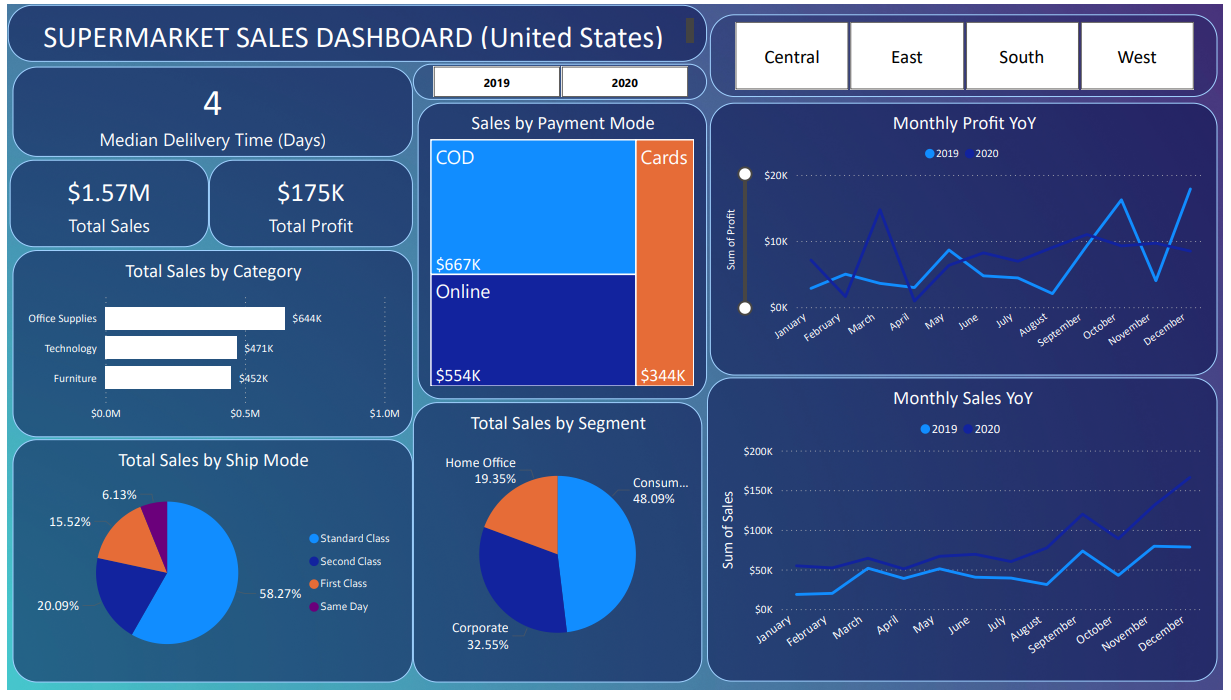

This screenshot's page, from the dashboard's own definition file:
{"tool":"powerbi","page":{"name":"Dashboard","canvas":[1280,720],"ordinal":0},"visuals":[{"type":"barChart","fields":{"Y":["Sum(Sheet1.Sales)"],"Category":["Sheet1.Category"]},"box":[5,258.3,421.7,196.7],"z":0},{"type":"pieChart","fields":{"Category":["Sheet1.Ship Mode"],"Y":["Sum(Sheet1.Sales)"]},"box":[5,456.7,421.7,256.7],"z":1000},{"type":"card","fields":{"Values":["Sum(Sheet1.Sales)"]},"box":[1.7,163.3,210,91.7],"z":2000},{"type":"card","fields":{"Values":["Sum(Sheet1.Profit)"]},"box":[211.7,163.3,215,91.7],"z":3000},{"type":"lineChart","title":"Monthly Sales YoY","fields":{"Category":["Sheet1.Order Date.Variation.Date Hierarchy.Month"],"Y":["Sum(Superstore_data.Sales)"],"Series":["Superstore_data.Order Date.Variation.Date Hierarchy.Year"]},"box":[736.7,391.7,538.3,320],"z":4000},{"type":"lineChart","title":"Monthly Profit YoY","fields":{"Category":["Sheet1.Order Date.Variation.Date Hierarchy.Month"],"Y":["Sum(Superstore_data.Profit)"],"Series":["Superstore_data.Order Date.Variation.Date Hierarchy.Year"]},"box":[740,103.3,535,286.7],"z":5000},{"type":"pieChart","fields":{"Y":["Sum(Sheet1.Sales)"],"Category":["Sheet1.Segment"]},"box":[426.7,418.3,305,295],"z":6000},{"type":"treemap","title":" Sales by Payment Mode","fields":{"Group":["Sheet1.Payment Mode"],"Values":["Sum(Sheet1.Sales)"]},"box":[431.7,103.3,305,311.7],"z":7000},{"type":"slicer","fields":{"Values":["Superstore_data.Region"]},"box":[740,10,535,86.7],"z":8000},{"type":"card","fields":{"Values":["Median(Sheet1.Avgdelivery)"]},"box":[5,65,421.7,95],"z":9000},{"type":"textbox","box":[0,0,736.7,60],"z":10000},{"type":"slicer","fields":{"Values":["Superstore_data.Order Date.Variation.Date Hierarchy.Year"]},"box":[426.7,61.7,310,38.3],"z":10001}]}

Visuals, with their boxes in screenshot pixels (x1, y1, x2, y2), scaled from the page's 1280x720 canvas onto the 1231x700 screenshot:
barChart - Sum(Sheet1.Sales) x Sheet1.Category: BBox(5, 251, 410, 442)
pieChart - Sheet1.Ship Mode x Sum(Sheet1.Sales): BBox(5, 444, 410, 694)
card - Sum(Sheet1.Sales): BBox(2, 159, 204, 248)
card - Sum(Sheet1.Profit): BBox(204, 159, 410, 248)
"Monthly Sales YoY" lineChart: BBox(708, 381, 1226, 692)
"Monthly Profit YoY" lineChart: BBox(712, 100, 1226, 379)
pieChart - Sum(Sheet1.Sales) x Sheet1.Segment: BBox(410, 407, 704, 693)
" Sales by Payment Mode" treemap: BBox(415, 100, 708, 403)
slicer - Superstore_data.Region: BBox(712, 10, 1226, 94)
card - Median(Sheet1.Avgdelivery): BBox(5, 63, 410, 156)
textbox: BBox(0, 0, 708, 58)
slicer - Superstore_data.Order Date.Variation.Date Hierarchy.Year: BBox(410, 60, 708, 97)
